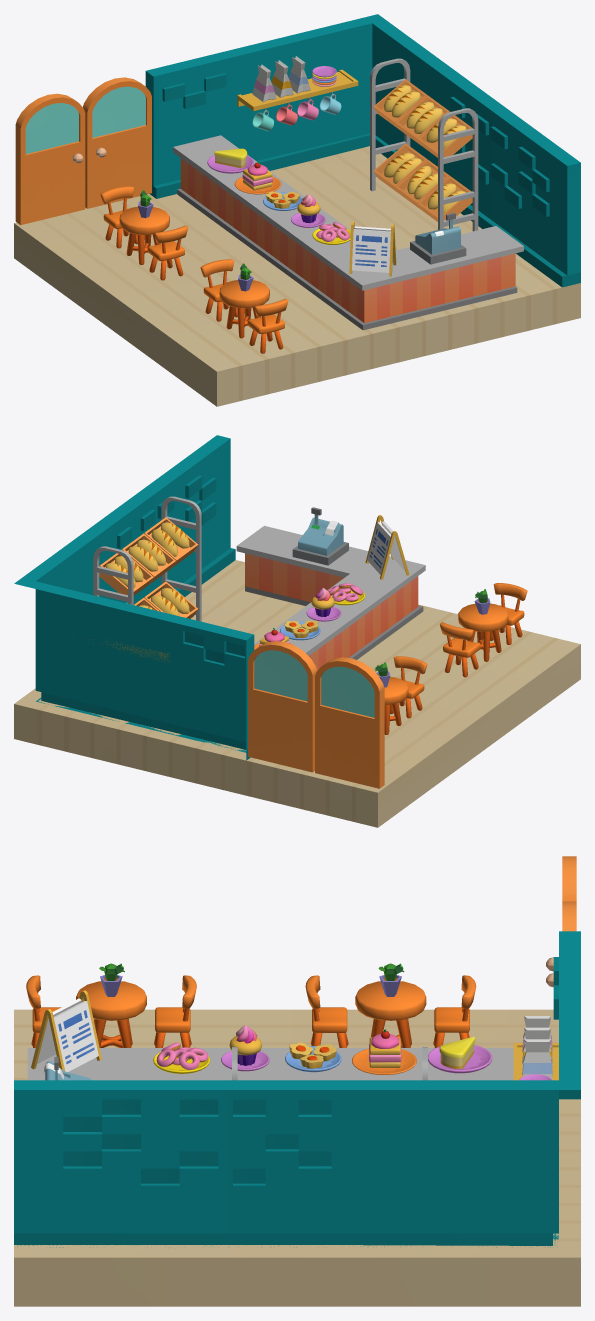
The model's file is degustacion_local.glb.
The picture shows the model from 3 angles, top to bottom: view 1: azimuth 30°, elevation 25°; view 2: azimuth 150°, elevation 25°; view 3: azimuth 270°, elevation 25°; orthographic projection. The views are drawn at different scales.
Visible parts, largest first — view 1: Floor_16, Walls_0, Counter_25, Door_17, Boxes_59, Menu_14, Kasa_15, Table.002_1, Table.001_2, Cube.009_24, Chair.005_30, Chair.003_32 (+7 smaller); view 2: Floor_16, Walls_0, Door_17, Counter_25, Boxes_59, Kasa_15, Table.002_1, Menu_14, Chair.002_33, Chair.003_32, Chair.005_30, Table.001_2; view 3: Walls_0, Floor_16, Counter_25, Menu_14, Table.001_2, Table.002_1, Chair.002_33, Chair.005_30, Chair.004_31, Door_17, Cake_35, Coffee.002_26 (+8 smaller).
Boxes of the visible parts, x1,y1,x2,y2 form: Floor_16: (14,146,580,406); Walls_0: (145,14,580,287); Counter_25: (173,135,523,330); Door_17: (15,77,151,225); Boxes_59: (370,58,478,231); Menu_14: (349,222,396,276); Kasa_15: (410,212,466,264); Table.002_1: (219,280,269,338); Table.001_2: (119,206,169,264); Cube.009_24: (237,69,358,111); Chair.005_30: (147,225,188,280); Chair.003_32: (247,298,288,353); Floor_16: (14,560,580,827); Walls_0: (14,435,254,760); Door_17: (248,641,384,788); Counter_25: (236,525,425,670); Boxes_59: (93,496,201,621); Kasa_15: (292,507,348,565); Table.002_1: (458,603,508,661); Menu_14: (365,515,409,579); Chair.002_33: (440,622,480,677); Chair.003_32: (490,583,527,644); Chair.005_30: (390,656,427,718); Table.001_2: (384,676,408,734); Walls_0: (14,931,580,1247); Floor_16: (14,1009,580,1306); Counter_25: (27,1048,513,1080); Menu_14: (31,990,101,1071); Table.001_2: (355,981,426,1047); Table.002_1: (76,981,146,1047); Chair.002_33: (154,975,196,1047); Chair.005_30: (305,975,348,1047); Chair.004_31: (433,975,476,1047); Door_17: (546,856,576,987); Cake_35: (369,1029,401,1067); Coffee.002_26: (522,1039,552,1080).
Bounding box in the file's own units: 6.63 × 2.78 × 6.4.
1 material, 1 textured.
